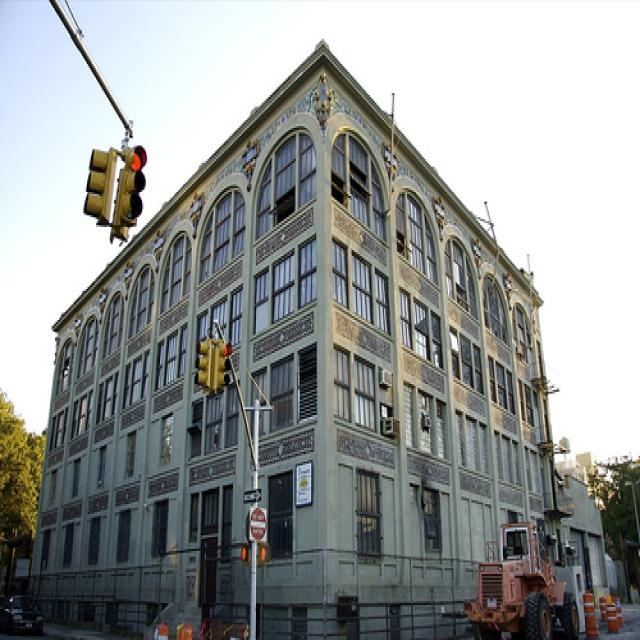Vehicle: (462, 522, 570, 638), (0, 595, 41, 633)
